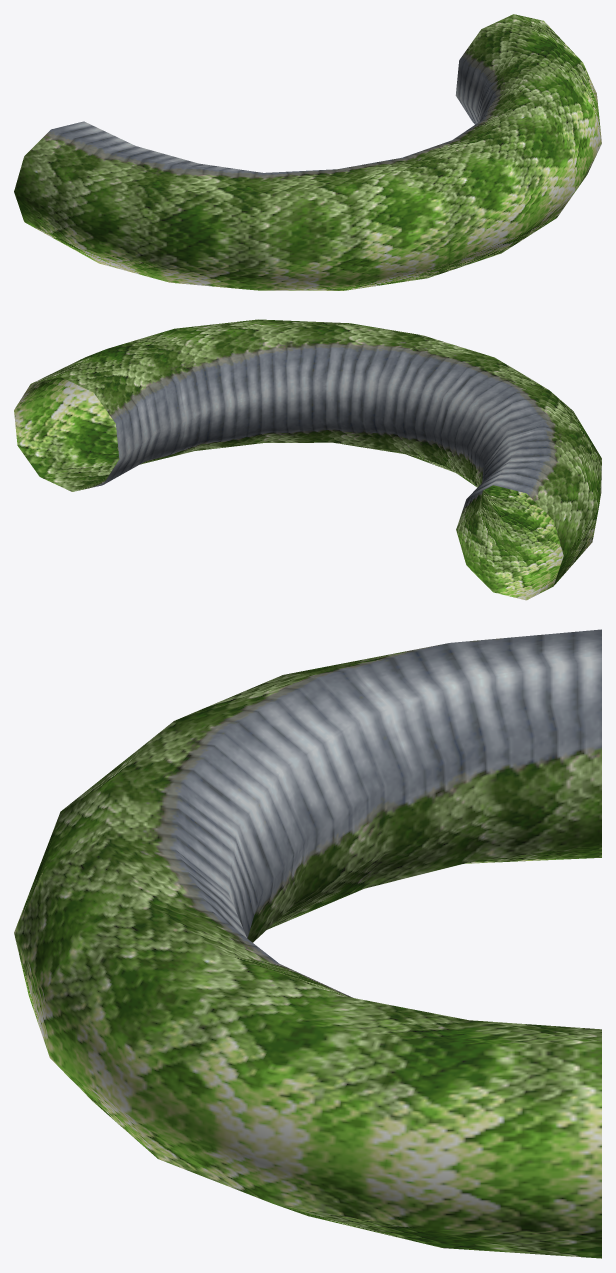
The picture shows the model from 3 angles, top to bottom: view 1: azimuth 30°, elevation 25°; view 2: azimuth 150°, elevation 25°; view 3: azimuth 270°, elevation 25°; orthographic projection. The views are drawn at different scales.
Parts seen in each view (by area): view 1: SMDImport; view 2: SMDImport; view 3: SMDImport.
Part boxes in pixels (<box>): SMDImport: <box>14,14,601,290</box>; SMDImport: <box>14,319,601,600</box>; SMDImport: <box>14,629,601,1258</box>.
Bounding box in the file's own units: 1282 × 251 × 642.
